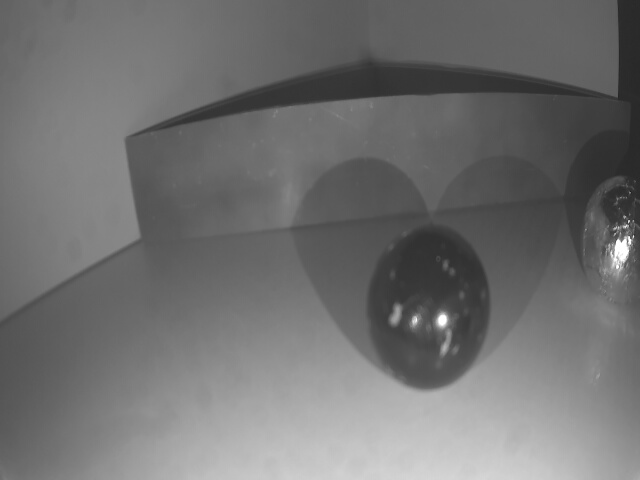Dead: (363, 226, 496, 390)
Green: (123, 102, 634, 243)
Live: (585, 175, 640, 302)
